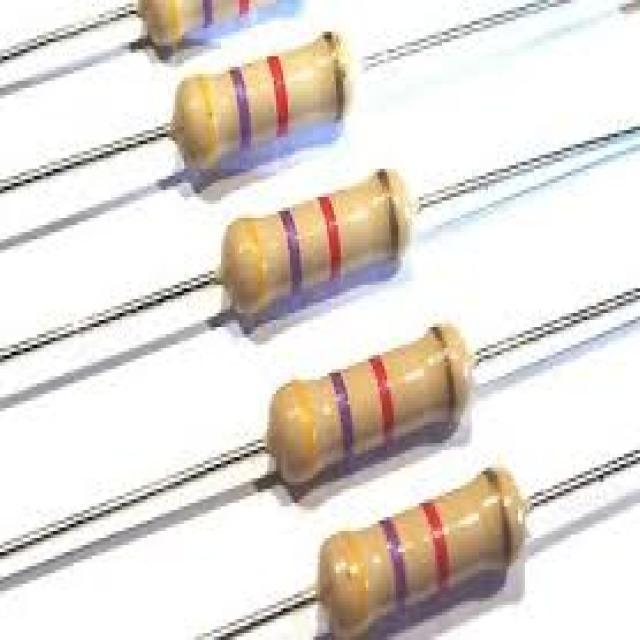Resistor: (318, 463, 528, 637), (269, 319, 470, 485), (220, 164, 408, 319), (170, 29, 349, 174)
